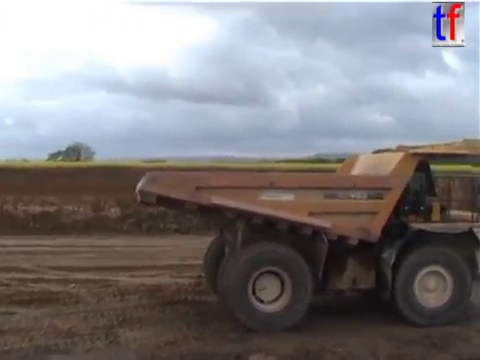truck: (130, 135, 480, 335)
